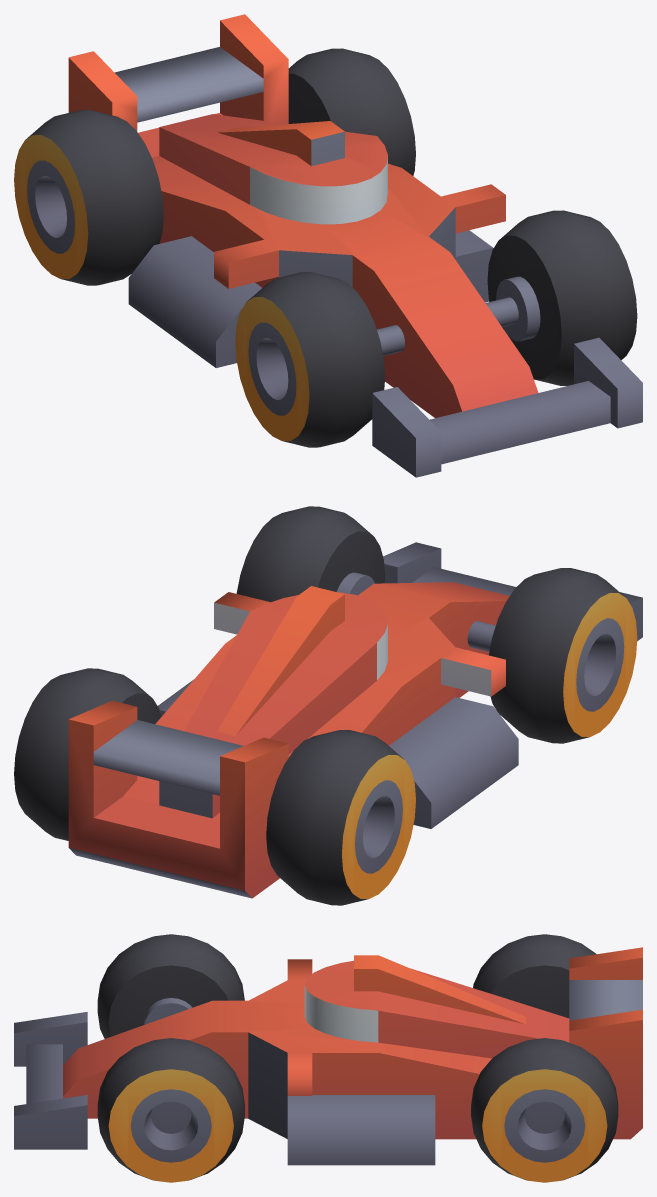
The model's file is toy-racer.glb.
3 renders of one model, top to bottom at view 1: azimuth 30°, elevation 25°; view 2: azimuth 150°, elevation 25°; view 3: azimuth 270°, elevation 25°, orthographic. The views are drawn at different scales.
Visible parts, largest first — view 1: toy-racer__part__body, toy-racer__part__wheel-back-right, toy-racer__part__wheel-front-right, toy-racer__part__wheel-front-left, toy-racer__part__wheel-back-left; view 2: toy-racer__part__body, toy-racer__part__wheel-back-right, toy-racer__part__wheel-front-right, toy-racer__part__wheel-back-left, toy-racer__part__wheel-front-left; view 3: toy-racer__part__body, toy-racer__part__wheel-back-left, toy-racer__part__wheel-front-left, toy-racer__part__wheel-front-right, toy-racer__part__wheel-back-right.
Part boxes in pixels (<box>): toy-racer__part__body: <box>68,14,642,477</box>; toy-racer__part__wheel-back-right: <box>14,110,163,285</box>; toy-racer__part__wheel-front-right: <box>235,272,385,447</box>; toy-racer__part__wheel-front-left: <box>487,210,637,385</box>; toy-racer__part__wheel-back-left: <box>288,48,415,175</box>; toy-racer__part__body: <box>68,542,642,898</box>; toy-racer__part__wheel-back-right: <box>266,730,415,905</box>; toy-racer__part__wheel-front-right: <box>489,568,637,743</box>; toy-racer__part__wheel-back-left: <box>14,668,161,840</box>; toy-racer__part__wheel-front-left: <box>236,506,385,602</box>; toy-racer__part__body: <box>14,947,642,1165</box>; toy-racer__part__wheel-back-left: <box>471,1038,618,1182</box>; toy-racer__part__wheel-front-left: <box>97,1038,244,1182</box>; toy-racer__part__wheel-front-right: <box>97,934,244,1038</box>; toy-racer__part__wheel-back-right: <box>473,934,596,1018</box>.
Size of the model in its own units: 1.3 by 0.7325 by 2.56.
Materials: 1 (1 with a texture image).
